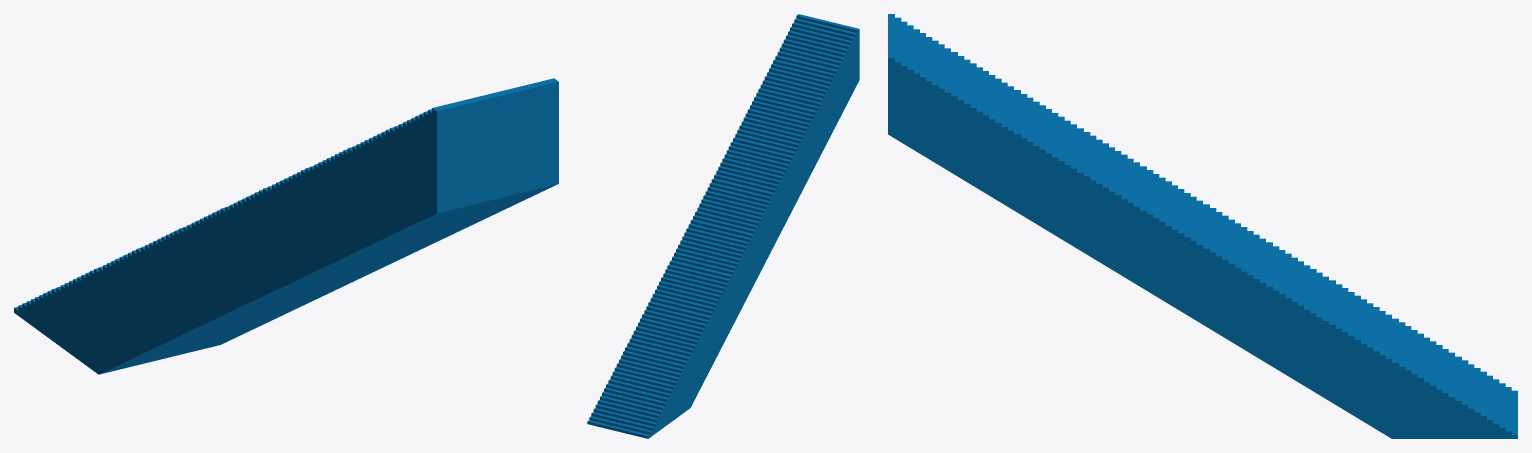
Rendered from Stairs_30x5.fbx.
3 renders of one model, left to right at view 1: azimuth 30°, elevation 25°; view 2: azimuth 150°, elevation 25°; view 3: azimuth 270°, elevation 25°, orthographic. The views are drawn at different scales.
Parts seen in each view (by area): view 1: Stairs_30x12; view 2: Stairs_30x12; view 3: Stairs_30x12.
Boxes of the visible parts, x1,y1,x2,y2 form: Stairs_30x12: (14, 78, 558, 374); Stairs_30x12: (587, 14, 859, 438); Stairs_30x12: (888, 14, 1517, 438).
Size of the model in its own units: 500 by 2000 by 3000.
